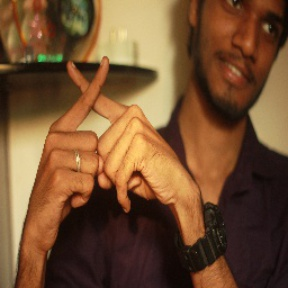X: (48, 47, 142, 152)
